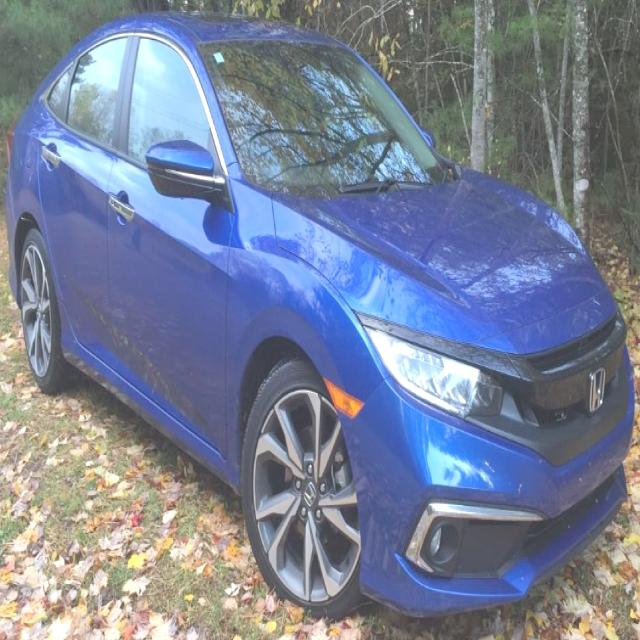blue: (2, 8, 635, 617)
